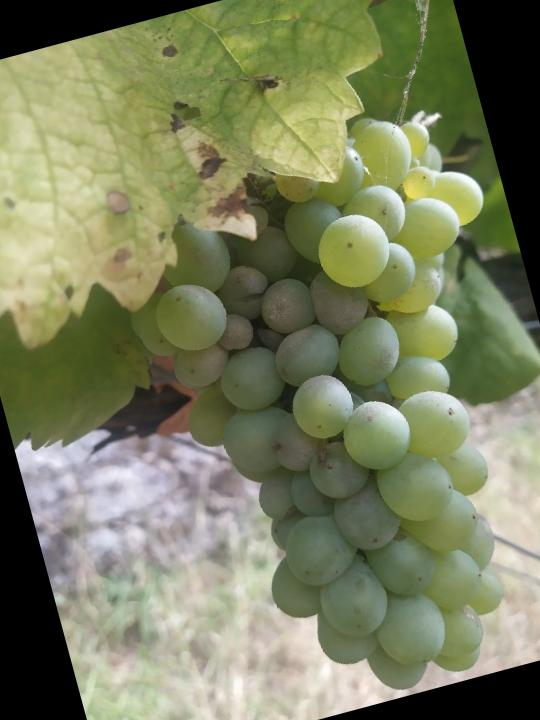grape: (95, 94, 540, 720)
